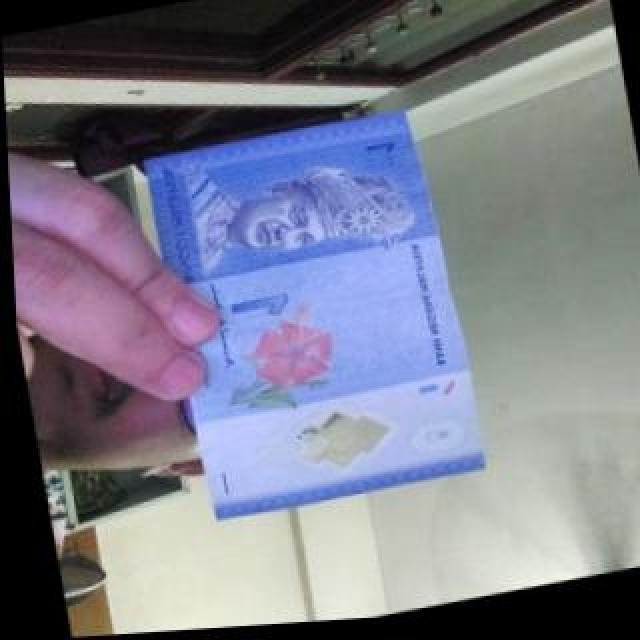1 Ringgit: (134, 106, 483, 531)
